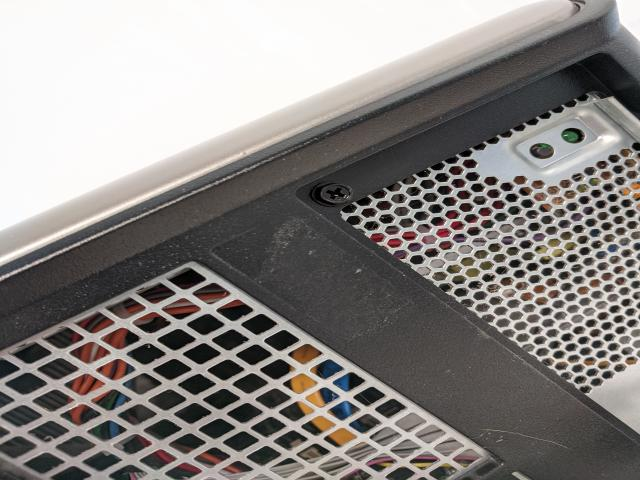CRS: (314, 183, 356, 207)
